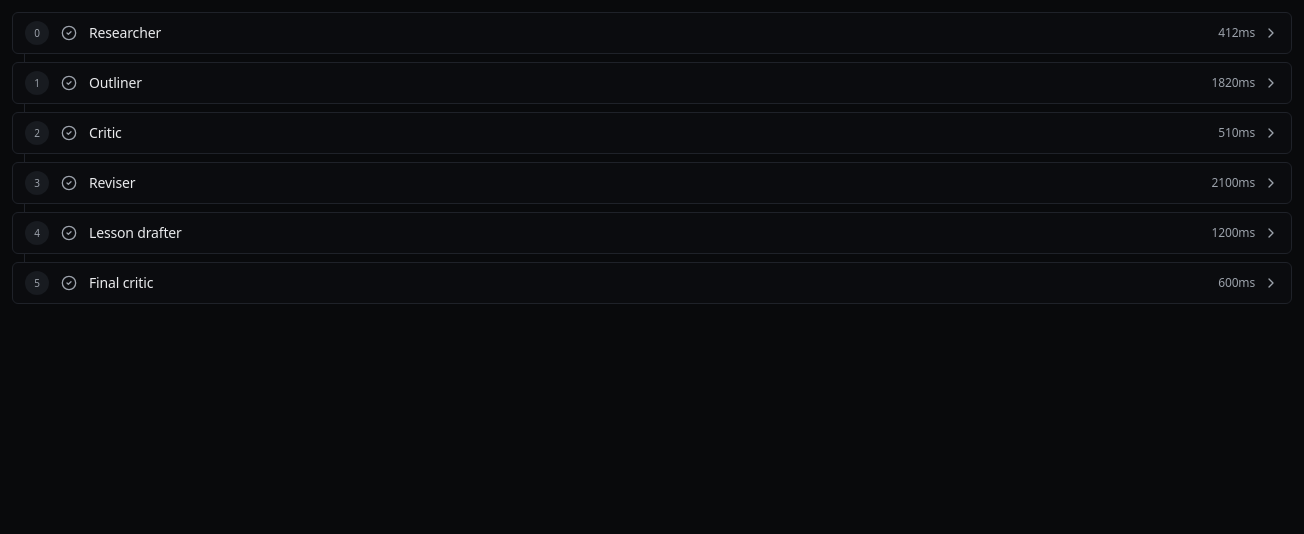
Test: DraftTraceTimeline › hides the payload until the row header is clicked
Check: the text "Module 2 jumps ahead of the foundations" is not shown
Click the button "2 Critic 510ms".
click(105, 133)  # box [12,112,1292,154]
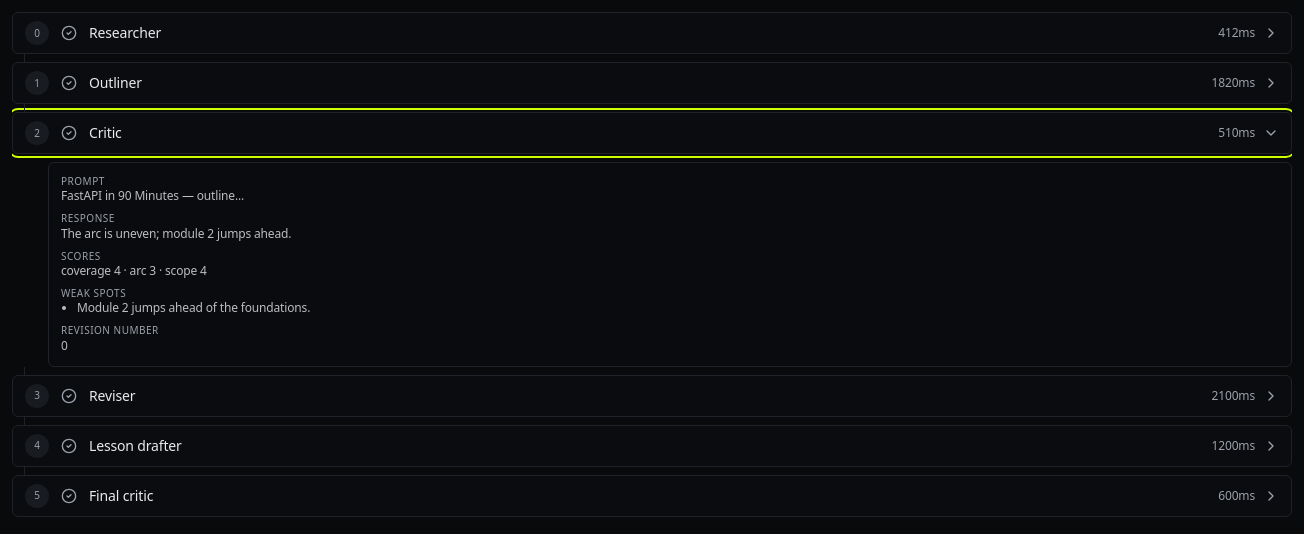
Check: the list item "Module 2 jumps ahead of the foundations." is shown, box [77,299,310,316]
